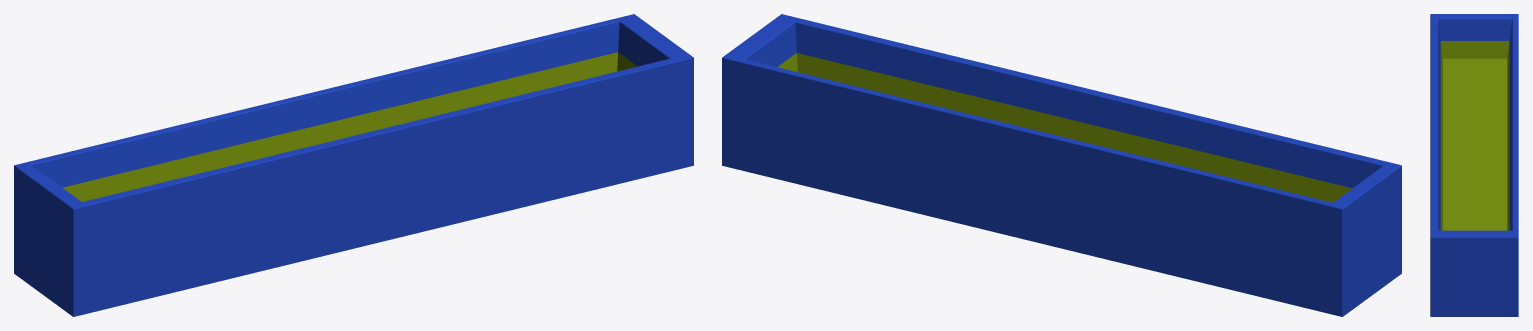
Rendered from donica na okno.FBX.
The picture shows the model from 3 angles, left to right: view 1: azimuth 30°, elevation 25°; view 2: azimuth 150°, elevation 25°; view 3: azimuth 270°, elevation 25°; orthographic projection. The views are drawn at different scales.
Parts seen in each view (by area): view 1: donica; view 2: donica; view 3: donica.
Boxes of the visible parts, x1=… form: donica: x1=14, y1=14, x2=693, y2=316; donica: x1=722, y1=14, x2=1401, y2=316; donica: x1=1430, y1=14, x2=1518, y2=316.
Size of the model in its own units: 60 by 10 by 10.
